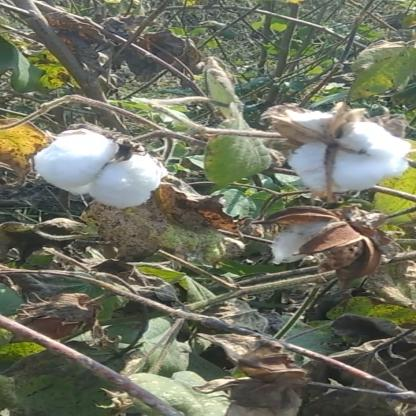cotton_ready: (253, 96, 411, 201), (34, 110, 174, 224)
